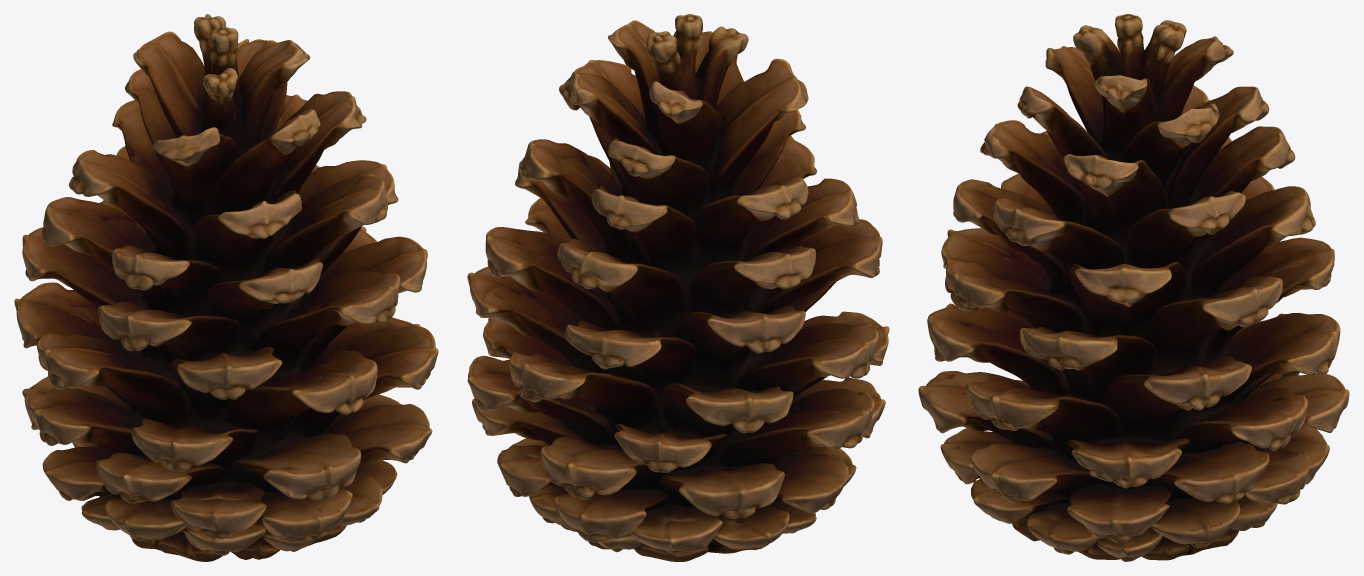
Rendered from PineCone.glb.
3 renders of one model, left to right at view 1: azimuth 30°, elevation 25°; view 2: azimuth 150°, elevation 25°; view 3: azimuth 270°, elevation 25°, orthographic.
Parts seen in each view (by area): view 1: tripo_node_67241743-b710-42f6-8d49-c25f9cab79ac; view 2: tripo_node_67241743-b710-42f6-8d49-c25f9cab79ac; view 3: tripo_node_67241743-b710-42f6-8d49-c25f9cab79ac.
Part boxes in pixels (x1,y1,x2,y2): tripo_node_67241743-b710-42f6-8d49-c25f9cab79ac: (14, 14, 438, 561); tripo_node_67241743-b710-42f6-8d49-c25f9cab79ac: (467, 14, 889, 561); tripo_node_67241743-b710-42f6-8d49-c25f9cab79ac: (918, 14, 1349, 561).
Bounding box in the file's own units: 0.8012 × 0.9997 × 0.778.
Materials: 1 (1 with a texture image).
